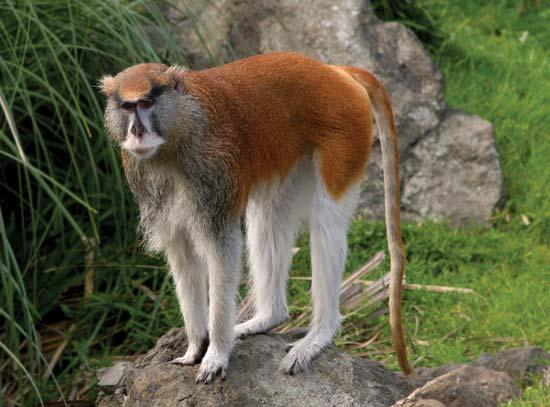monkey: (96, 52, 398, 384)
